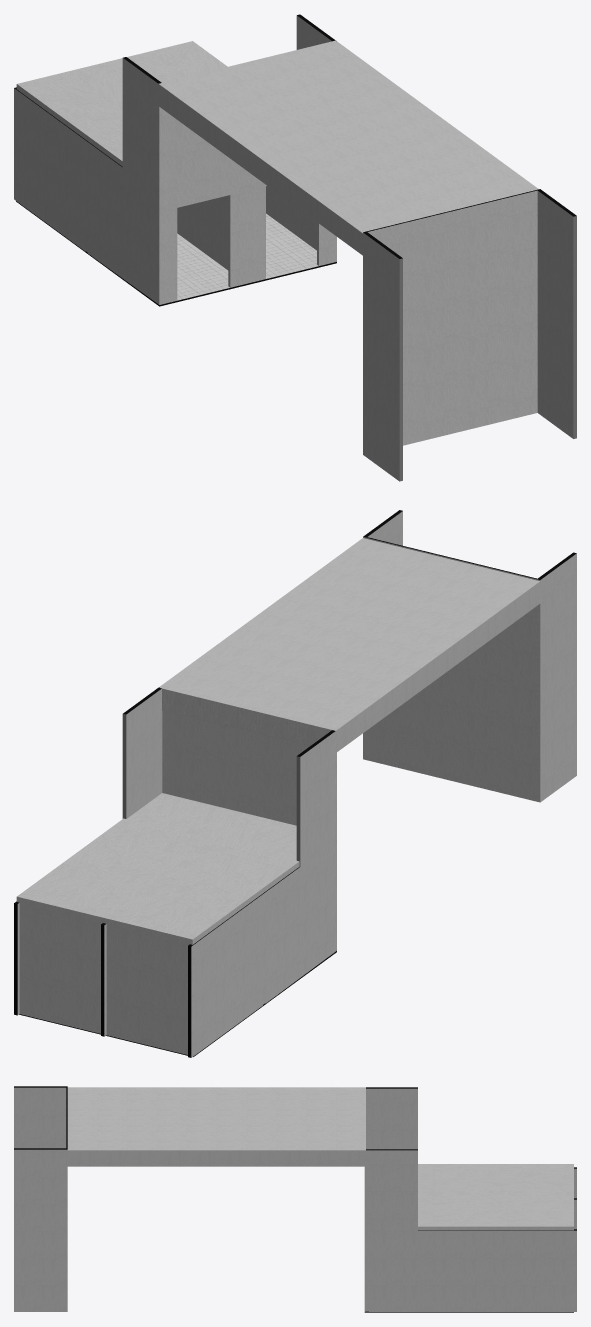
Rendered from VehicleTunnel-Level-Gate.fbx.
The picture shows the model from 3 angles, top to bottom: view 1: azimuth 30°, elevation 25°; view 2: azimuth 150°, elevation 25°; view 3: azimuth 270°, elevation 25°; orthographic projection. The views are drawn at different scales.
Parts seen in each view (by area): view 1: node_id9 (×3); view 2: node_id9 (×2); view 3: node_id9 (×2).
Boxes of the visible parts, x1,y1,x2,y2 form: node_id9 (×3): [14, 14, 576, 481]; node_id9 (×2): [14, 510, 576, 1057]; node_id9 (×2): [14, 1086, 576, 1312].
Size of the model in its own units: 0.426 by 0.512 by 1.6.
Materials: 4 (3 with a texture image).
